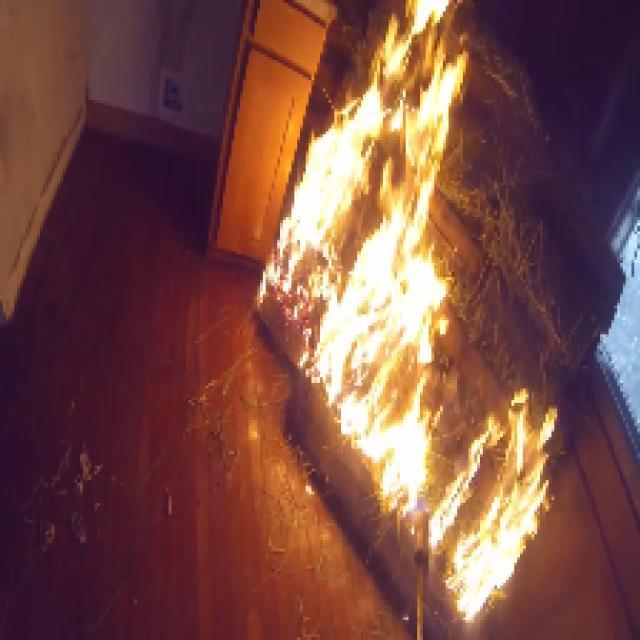Fire: (272, 83, 542, 612)
